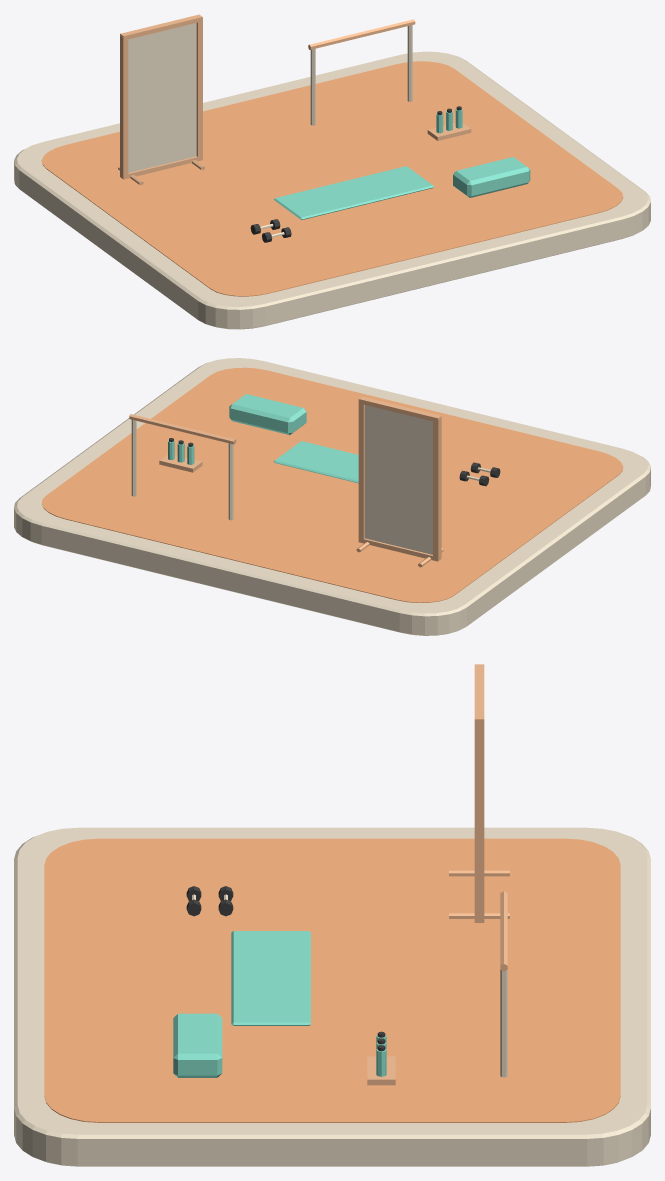
3 renders of one model, top to bottom at view 1: azimuth 30°, elevation 25°; view 2: azimuth 150°, elevation 25°; view 3: azimuth 270°, elevation 25°, orthographic. The views are drawn at different scales.
Parts seen in each view (by area): view 1: COM-02 Floor Surface, COM-01 Rounded Base Direct, Mirror face, Exercise mat, Step, Frame, Frame.001, Bar, Frame.003, Post, Post.001; view 2: COM-02 Floor Surface, COM-01 Rounded Base Direct, Mirror face, Step, Exercise mat, Frame, Frame.001, Bar, Frame.003, Post, Post.001, Frame.002 (+1 smaller); view 3: COM-02 Floor Surface, COM-01 Rounded Base Direct, Exercise mat, Step, Frame.001, Post.001.
Part boxes in pixels (x1,y1,x2,y2): COM-02 Floor Surface: (41, 61, 623, 296); COM-01 Rounded Base Direct: (14, 51, 650, 329); Mirror face: (128, 23, 196, 172); Exercise mat: (274, 166, 434, 219); Step: (453, 157, 530, 197); Frame: (120, 35, 128, 177); Frame.001: (196, 18, 202, 159); Bar: (308, 19, 415, 49); Frame.003: (120, 14, 202, 39); Post: (310, 48, 315, 125); Post.001: (407, 25, 412, 101); COM-02 Floor Surface: (42, 367, 623, 602); COM-01 Rounded Base Direct: (14, 358, 650, 635); Mirror face: (365, 405, 432, 554); Step: (229, 394, 306, 434); Exercise mat: (274, 441, 358, 483); Frame: (433, 417, 441, 560); Frame.001: (358, 400, 364, 540); Bar: (129, 414, 236, 444); Frame.003: (358, 396, 441, 421); Post: (228, 443, 233, 520); Post.001: (131, 419, 136, 496); Frame.002: (358, 538, 441, 561); COM-02 Floor Surface: (44, 838, 620, 1122); COM-01 Rounded Base Direct: (14, 827, 650, 1166); Exercise mat: (231, 931, 310, 1025); Step: (173, 1013, 222, 1077); Frame.001: (474, 721, 484, 921); Post.001: (500, 970, 507, 1077).
Bounding box in the file's own units: 6 × 2.15 × 5.2.
Materials: 1 (1 with a texture image).
